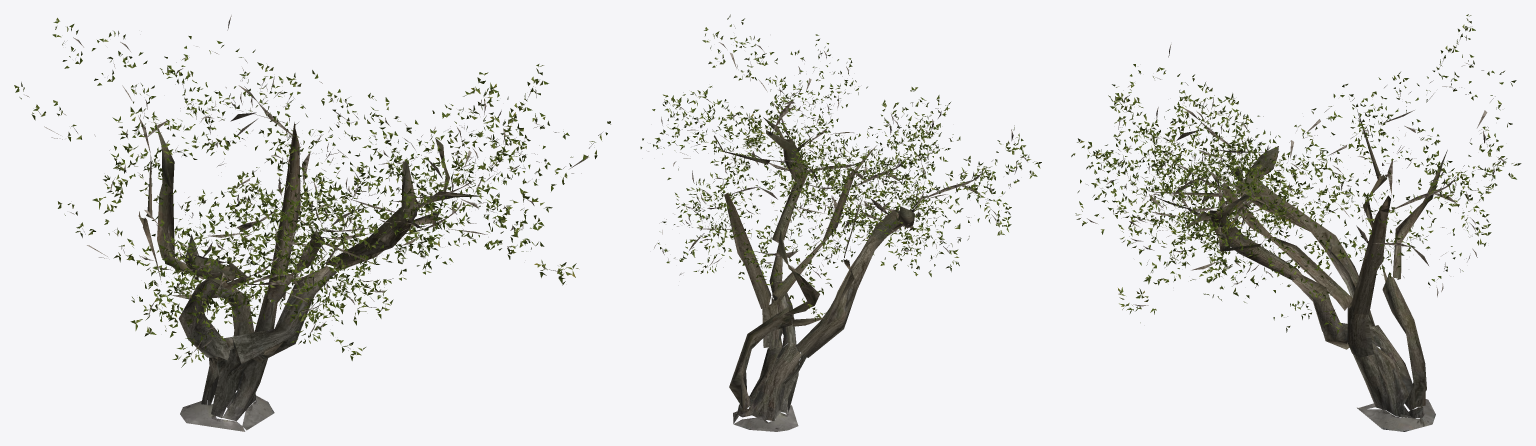
Rendered from broadleaf-far.glb.
3 views of the same model, side by side, from view 1: azimuth 30°, elevation 25°; view 2: azimuth 150°, elevation 25°; view 3: azimuth 270°, elevation 25° (orthographic). The views are drawn at different scales.
Parts seen in each view (by area): view 1: island_tree_02_LOD0; view 2: island_tree_02_LOD0; view 3: island_tree_02_LOD0.
Boxes of the visible parts, <box> form: island_tree_02_LOD0: <box>14,15,610,431</box>; island_tree_02_LOD0: <box>640,14,1041,431</box>; island_tree_02_LOD0: <box>1071,14,1521,431</box>.
Bounding box in the file's own units: 8.08 × 7.18 × 8.52.
Materials: 3 (3 with a texture image).
